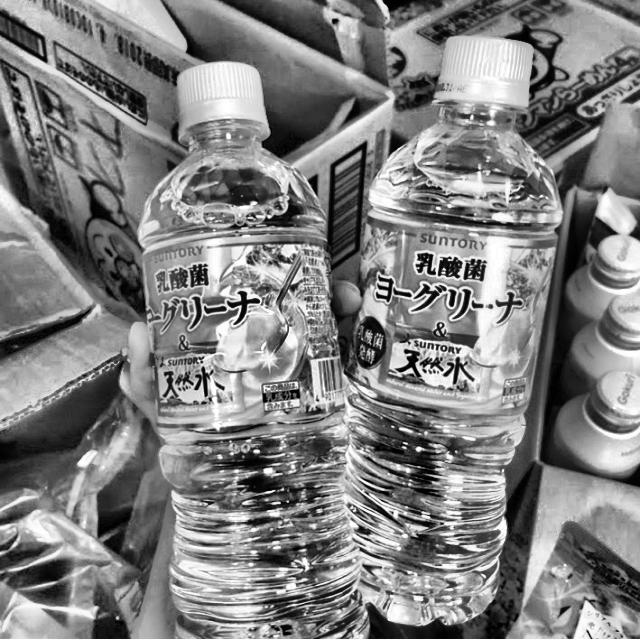waterbottle: (323, 29, 569, 632), (137, 57, 375, 640)
